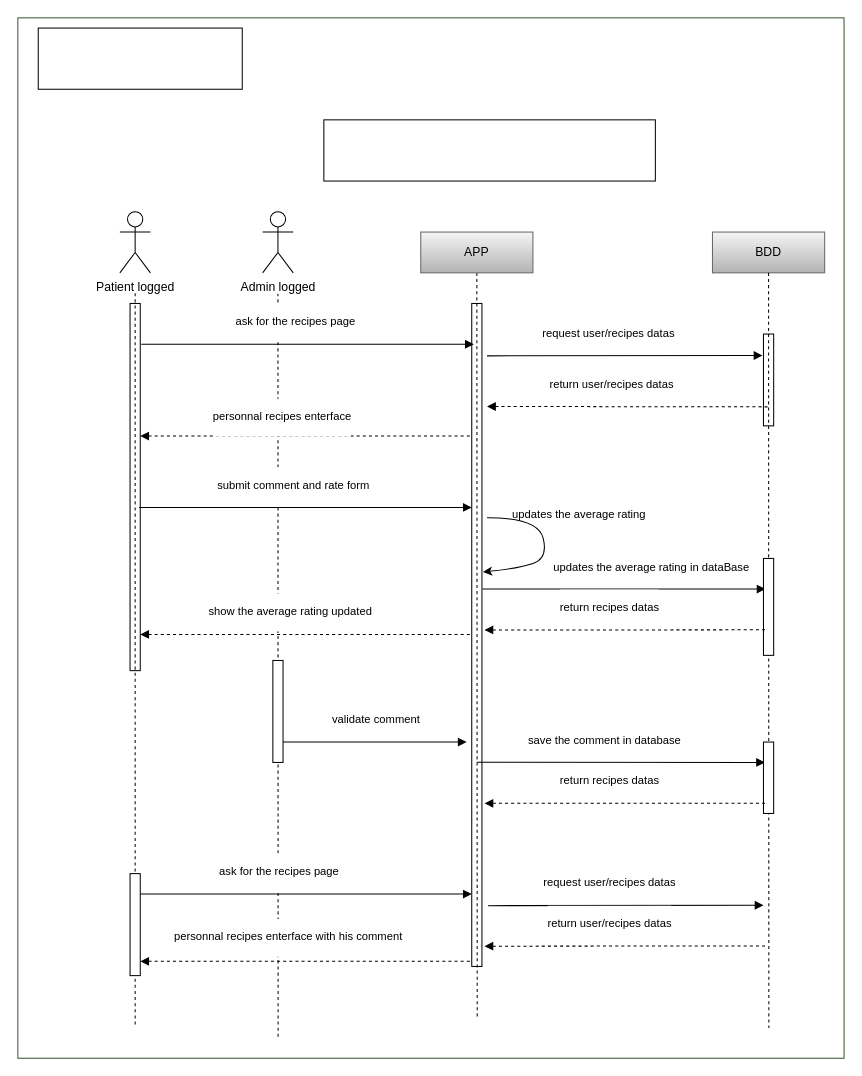
Image size: 862x1076. Some labels were removed from this diagram. The centre of each missing label's shape, as x and y in pixels:
comment rate validated: (489,150)
sequence diagram: (139,58)
